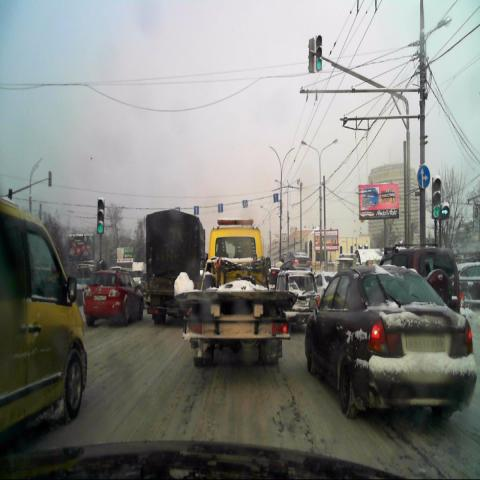4_1_4: (416, 164, 431, 189)
